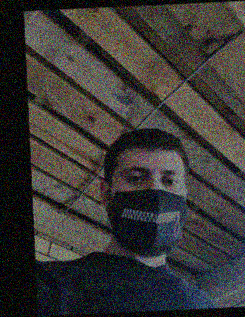with_mask: (110, 157, 186, 258)
